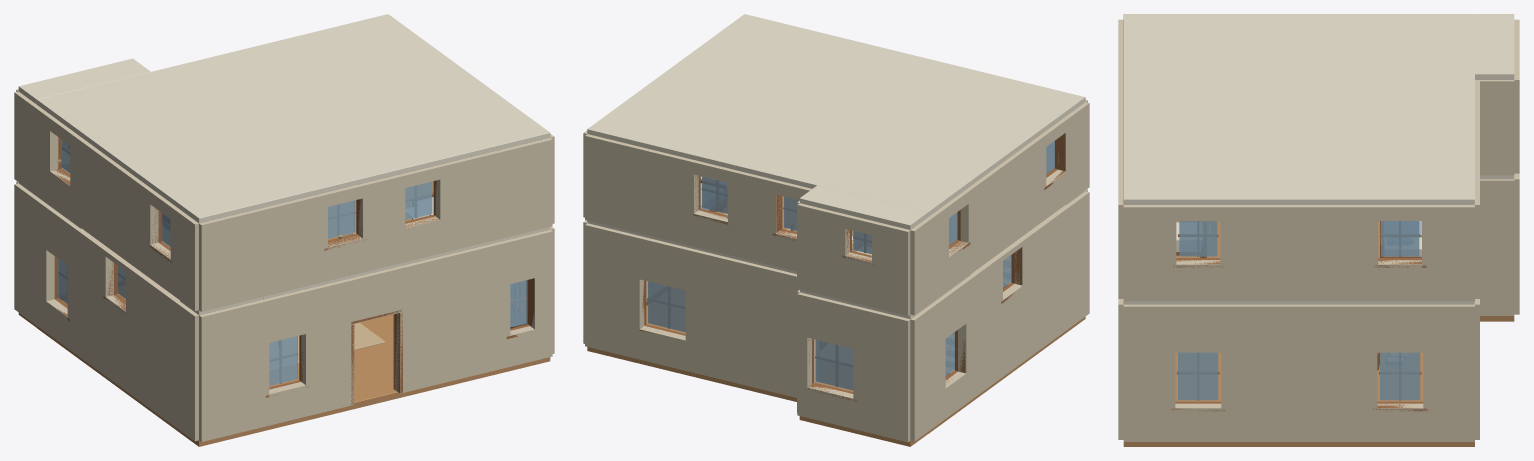
File: MothersHouseInterior3D.fbx
The picture shows the model from 3 angles, left to right: view 1: azimuth 30°, elevation 25°; view 2: azimuth 150°, elevation 25°; view 3: azimuth 270°, elevation 25°; orthographic projection. The views are drawn at different scales.
Visible parts, largest first — view 1: FIX_UpperCeiling, FIX_Wall.Front, FIX_UpperWalls, FIX_Wall.WestUpper, FIX_UpperWall.WestUpper, FIX_Floor, FIX_Wall.Left, FIX_UpperWall.WestBase, FIX_InterstoreyCeiling, FIX_Window.ground-south-west.Glass, FIX_Door.Frame, FIX_Window.upper-south-east.Glass (+3 smaller); view 2: FIX_UpperCeiling, FIX_Wall.Back, FIX_UpperWalls, FIX_Wall.WestUpper, FIX_UpperWall.WestUpper, FIX_UpperWall.WestBase, FIX_Wall.Left, FIX_Floor, FIX_WindowGlass.West, FIX_WindowGlass.East, FIX_InterstoreyCeiling, FIX_Window.upper-north-east.Glass; view 3: FIX_UpperCeiling, FIX_Wall.EastUpper, FIX_UpperWall.EastUpper, FIX_UpperWall.EastBase, FIX_Wall.EastCutaway, FIX_UpperWalls, FIX_Floor, FIX_Window.ground-east-north.Glass, FIX_Window.ground-east-south.Glass, FIX_InterstoreyCeiling, FIX_Wall.Back, FIX_Window.upper-east-north.Glass (+2 smaller).
Part boxes in pixels (x1,y1,x2,y2): FIX_UpperCeiling: (18,14,550,223); FIX_Wall.Front: (199,229,552,441); FIX_UpperWalls: (16,89,552,311); FIX_Wall.WestUpper: (14,183,202,418); FIX_UpperWall.WestUpper: (14,91,201,288); FIX_Floor: (18,293,550,446); FIX_Wall.Left: (14,286,198,441); FIX_UpperWall.WestBase: (14,156,198,310); FIX_InterstoreyCeiling: (18,182,550,315); FIX_Window.ground-south-west.Glass: (269,336,297,385); FIX_Door.Frame: (351,309,402,404); FIX_Window.upper-south-east.Glass: (405,181,432,220); FIX_UpperCeiling: (587,14,1085,229); FIX_Wall.Back: (585,223,910,442); FIX_UpperWalls: (585,100,1087,315); FIX_Wall.WestUpper: (910,191,1089,419); FIX_UpperWall.WestUpper: (910,102,1089,293); FIX_UpperWall.WestBase: (910,165,1089,315); FIX_Wall.Left: (910,291,1089,441); FIX_Floor: (587,305,1085,446); FIX_WindowGlass.West: (815,339,853,390); FIX_WindowGlass.East: (648,281,685,332); FIX_InterstoreyCeiling: (587,190,1085,319); FIX_Window.upper-north-east.Glass: (702,176,727,213); FIX_UpperCeiling: (1123,14,1514,204); FIX_Wall.EastUpper: (1123,179,1514,417); FIX_UpperWall.EastUpper: (1123,80,1514,276); FIX_UpperWall.EastBase: (1123,150,1514,301); FIX_Wall.EastCutaway: (1123,291,1514,441); FIX_UpperWalls: (1118,19,1519,298); FIX_Floor: (1123,316,1514,446); FIX_Window.ground-east-north.Glass: (1380,352,1420,400); FIX_Window.ground-east-south.Glass: (1178,352,1218,400); FIX_InterstoreyCeiling: (1123,175,1514,304); FIX_Wall.Back: (1475,173,1519,439); FIX_Window.upper-east-north.Glass: (1381,221,1419,256).
Bounding box in the file's own units: 10.24 × 6.22 × 9.14.
